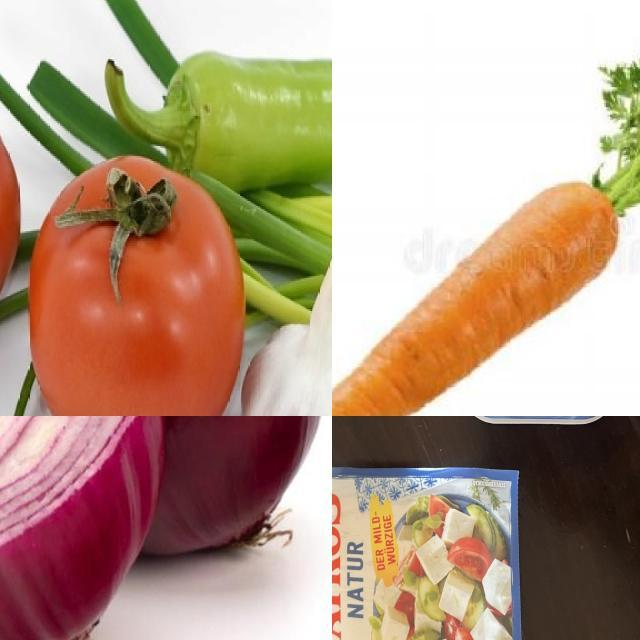carrot: (333, 133, 640, 417)
garlic: (241, 263, 333, 417)
onion: (30, 417, 330, 564), (1, 417, 168, 640)
tomato: (28, 155, 243, 417)
